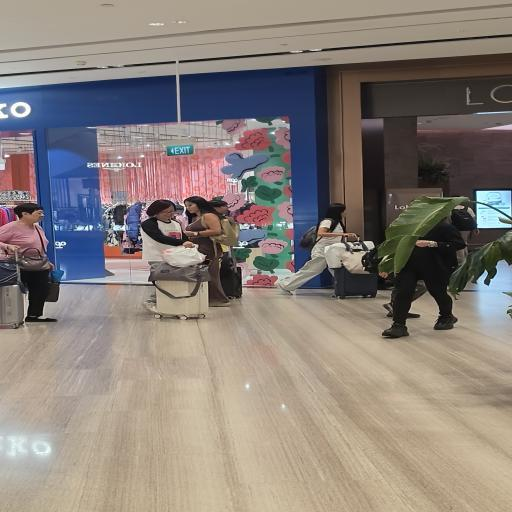person_left: (173, 196, 235, 300)
person_with_luggage_right: (268, 184, 384, 300), (122, 191, 210, 318), (0, 191, 67, 327)
